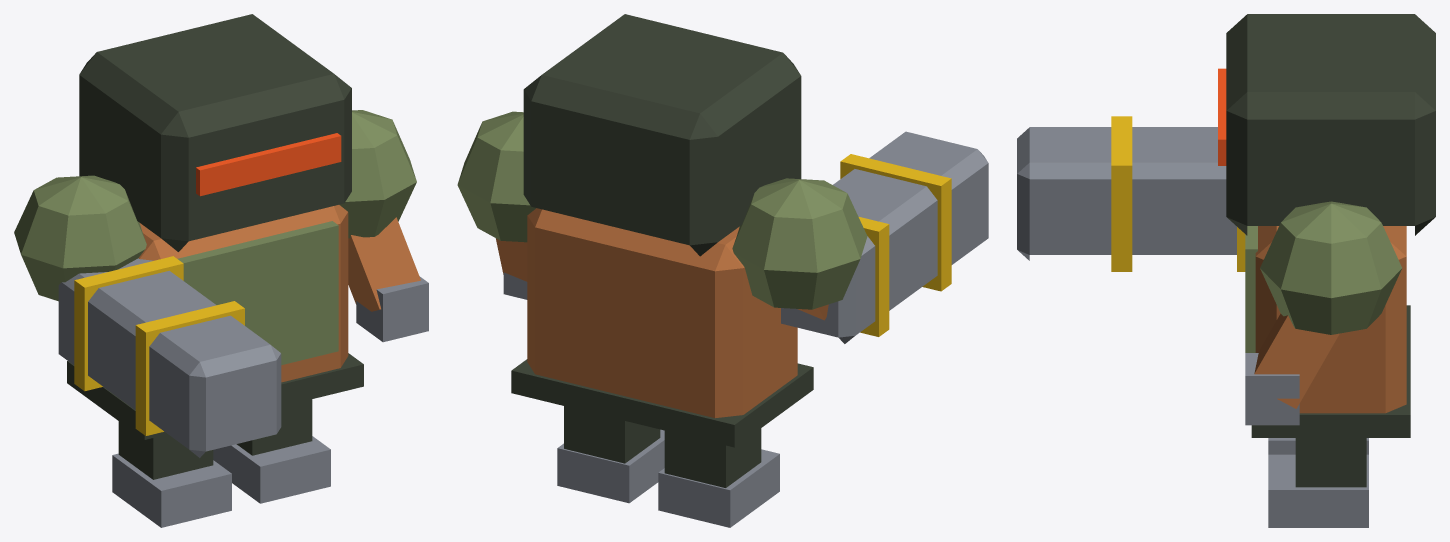
The model's file is breacher_r7.glb.
The picture shows the model from 3 angles, left to right: view 1: azimuth 30°, elevation 25°; view 2: azimuth 150°, elevation 25°; view 3: azimuth 270°, elevation 25°; orthographic projection. The views are drawn at different scales.
Parts seen in each view (by area): view 1: breacher_r7_mesh; view 2: breacher_r7_mesh; view 3: breacher_r7_mesh.
Part boxes in pixels (x1,y1,x2,y2): breacher_r7_mesh: [14, 14, 428, 527]; breacher_r7_mesh: [457, 14, 988, 527]; breacher_r7_mesh: [1017, 14, 1435, 527].
Size of the model in its own units: 1.93 by 2 by 1.75.
1 material, 1 textured.
